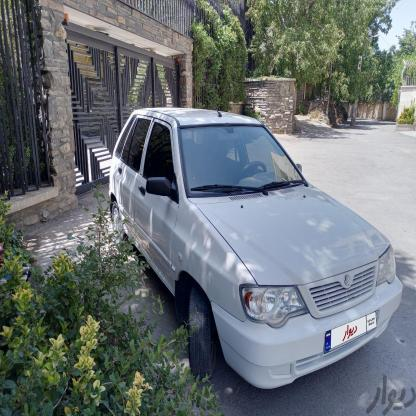Car: (100, 99, 405, 390)
